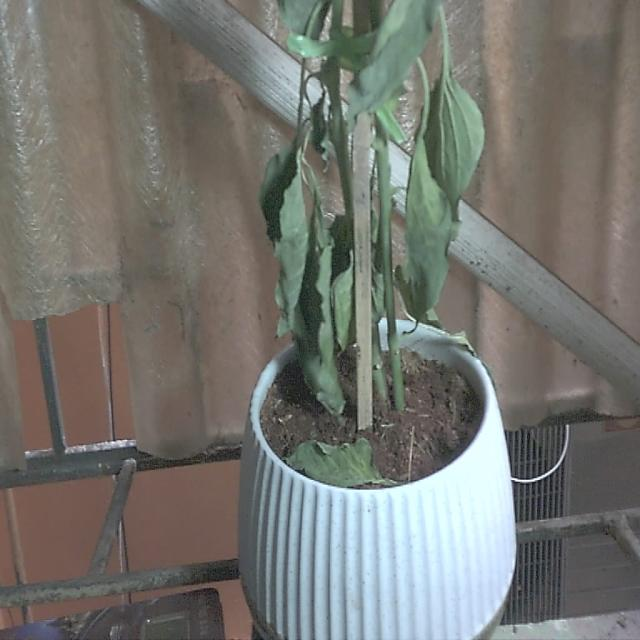Leaf: (292, 192, 346, 416), (416, 71, 484, 238), (256, 134, 308, 341), (404, 132, 450, 322), (286, 439, 393, 488)
